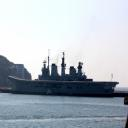Portanaves: (8, 48, 122, 100)
